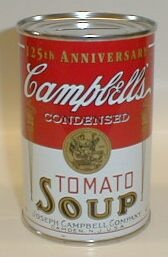grozi_88: (16, 10, 156, 248)
